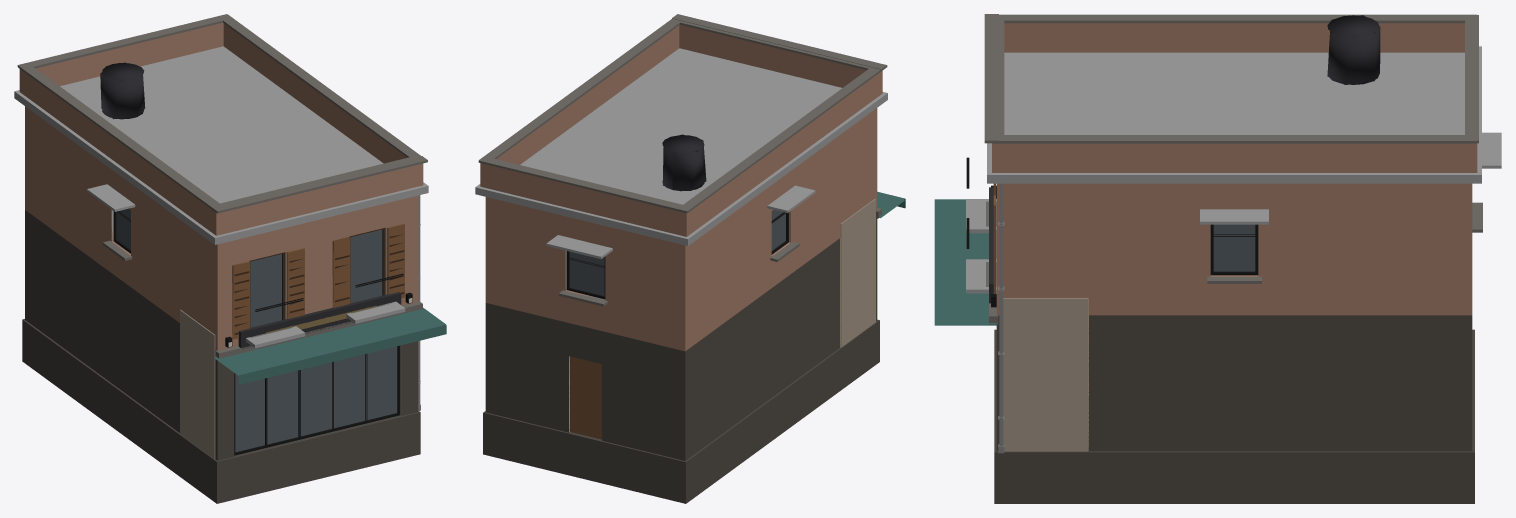
File: shop_house_6x10_2_far.glb
3 views of the same model, side by side, from view 1: azimuth 30°, elevation 25°; view 2: azimuth 150°, elevation 25°; view 3: azimuth 270°, elevation 25° (orthographic). The views are drawn at different scales.
Visible parts, largest first — view 1: shop_house_6x10_2; view 2: shop_house_6x10_2; view 3: shop_house_6x10_2.
Boxes of the visible parts, x1,y1,x2,y2 form: shop_house_6x10_2: (14,14,446,503); shop_house_6x10_2: (475,14,905,503); shop_house_6x10_2: (934,14,1501,503).
Size of the model in its own units: 7.22 by 8.95 by 11.91.
